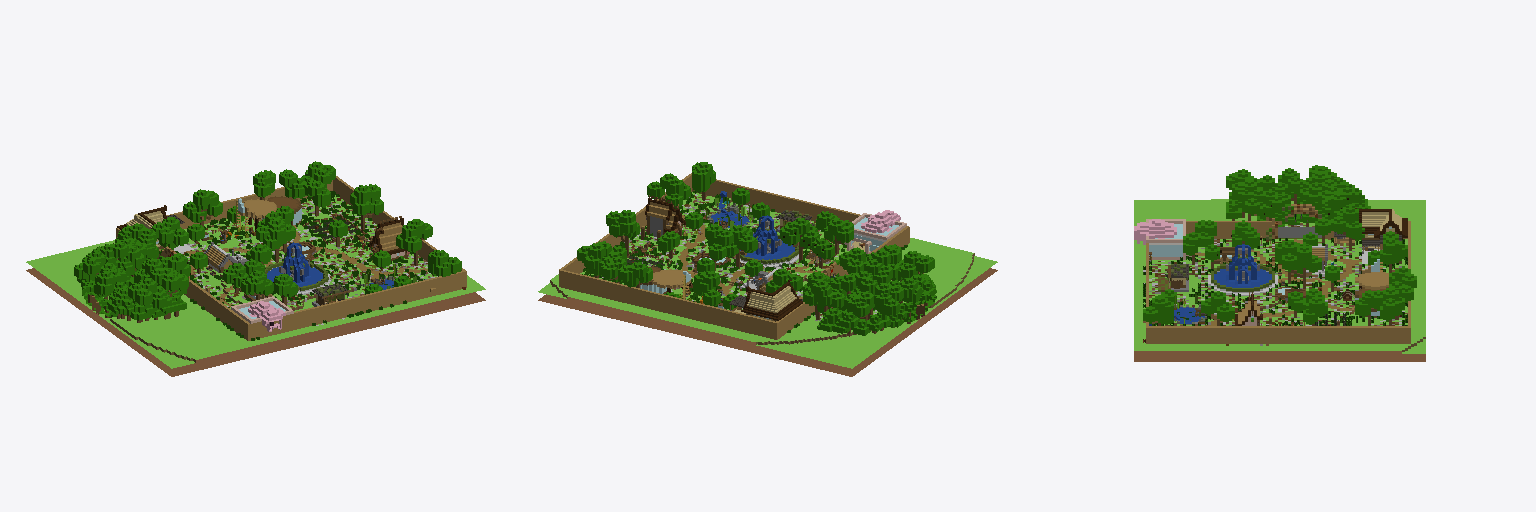
The picture shows the model from 3 angles: view 1: azimuth 30°, elevation 25°; view 2: azimuth 150°, elevation 25°; view 3: azimuth 270°, elevation 25°; orthographic projection.
Parts seen in each view (by area): view 1: minecraft_block-oak_leaves, minecraft_block-grass_block_top, minecraft_block-oak_planks, minecraft_block-dirt, minecraft_block-grass, minecraft_block-oak_log, minecraft_block-dirt_path_top, minecraft_block-spruce_planks, minecraft_block-cherry_leaves, minecraft_block-water_flow, minecraft_block-stone, minecraft_block-dark_oak_planks; view 2: minecraft_block-oak_leaves, minecraft_block-grass_block_top, minecraft_block-oak_planks, minecraft_block-dirt, minecraft_block-grass, minecraft_block-dark_oak_planks, minecraft_block-oak_log, minecraft_block-birch_planks, minecraft_block-water_flow, minecraft_block-dirt_path_top, minecraft_block-water_still, minecraft_block-cherry_leaves (+3 smaller); view 3: minecraft_block-oak_leaves, minecraft_block-grass_block_top, minecraft_block-oak_planks, minecraft_block-dirt, minecraft_block-grass, minecraft_block-dirt_path_top, minecraft_block-water_still, minecraft_block-oak_log, minecraft_block-dark_oak_planks, minecraft_block-cherry_leaves, minecraft_block-glass, minecraft_block-water_flow (+3 smaller).
Boxes of the visible parts, <box> form: minecraft_block-oak_leaves: <box>74,161,461,320</box>; minecraft_block-grass_block_top: <box>26,195,485,368</box>; minecraft_block-oak_planks: <box>116,176,466,340</box>; minecraft_block-dirt: <box>26,268,485,376</box>; minecraft_block-grass: <box>175,191,436,340</box>; minecraft_block-oak_log: <box>88,197,424,322</box>; minecraft_block-dirt_path_top: <box>186,231,427,306</box>; minecraft_block-spruce_planks: <box>223,197,406,303</box>; minecraft_block-cherry_leaves: <box>248,301,285,331</box>; minecraft_block-water_flow: <box>268,242,308,282</box>; minecraft_block-stone: <box>181,201,437,325</box>; minecraft_block-dark_oak_planks: <box>117,205,406,254</box>; minecraft_block-oak_leaves: <box>577,162,936,335</box>; minecraft_block-grass_block_top: <box>538,192,997,368</box>; minecraft_block-oak_planks: <box>559,173,909,339</box>; minecraft_block-dirt: <box>538,268,997,376</box>; minecraft_block-grass: <box>582,191,907,332</box>; minecraft_block-dark_oak_planks: <box>645,198,802,320</box>; minecraft_block-oak_log: <box>594,192,927,333</box>; minecraft_block-birch_planks: <box>734,220,864,320</box>; minecraft_block-water_flow: <box>719,191,777,255</box>; minecraft_block-dirt_path_top: <box>678,215,834,298</box>; minecraft_block-water_still: <box>711,191,794,299</box>; minecraft_block-cherry_leaves: <box>861,210,900,232</box>; minecraft_block-oak_leaves: <box>1143,165,1416,324</box>; minecraft_block-grass_block_top: <box>1134,199,1425,353</box>; minecraft_block-oak_planks: <box>1143,204,1410,343</box>; minecraft_block-dirt: <box>1134,351,1425,361</box>; minecraft_block-grass: <box>1143,238,1407,325</box>; minecraft_block-dirt_path_top: <box>1195,239,1361,325</box>; minecraft_block-water_still: <box>1174,245,1271,323</box>; minecraft_block-oak_log: <box>1158,194,1401,325</box>; minecraft_block-dark_oak_planks: <box>1235,208,1407,325</box>; minecraft_block-cherry_leaves: <box>1134,219,1176,244</box>; minecraft_block-glass: <box>1149,224,1391,317</box>; minecraft_block-water_flow: <box>1149,244,1268,325</box>.
Bounding box in the file's own units: 118 × 21 × 95.